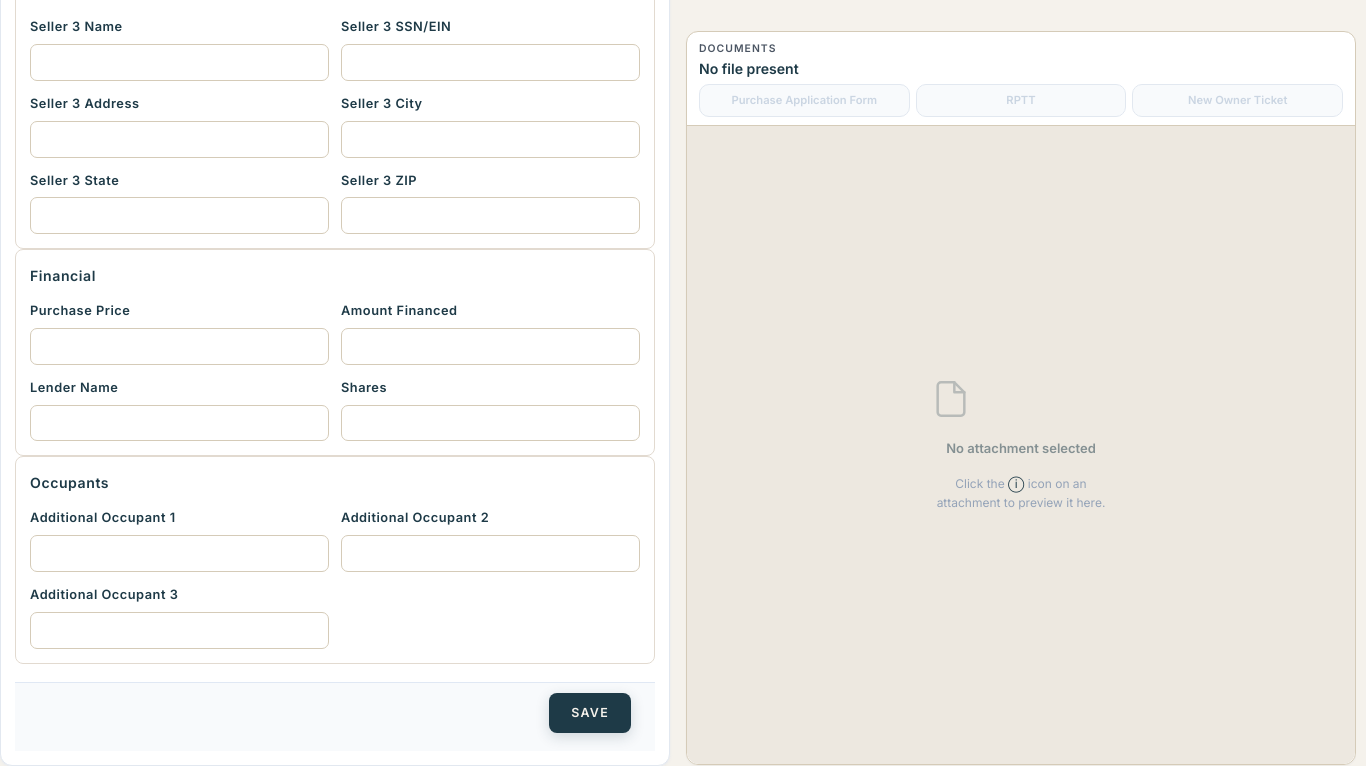
Scenario: NewOwnerTicketTab — save flow against an existing ticket › loads the existing record and saves, defaulting blank buyer 2 fields to N/A
(page scrolled)
Click the button "Save". click: x=590, y=713
box: left=549, top=693, right=631, bottom=733
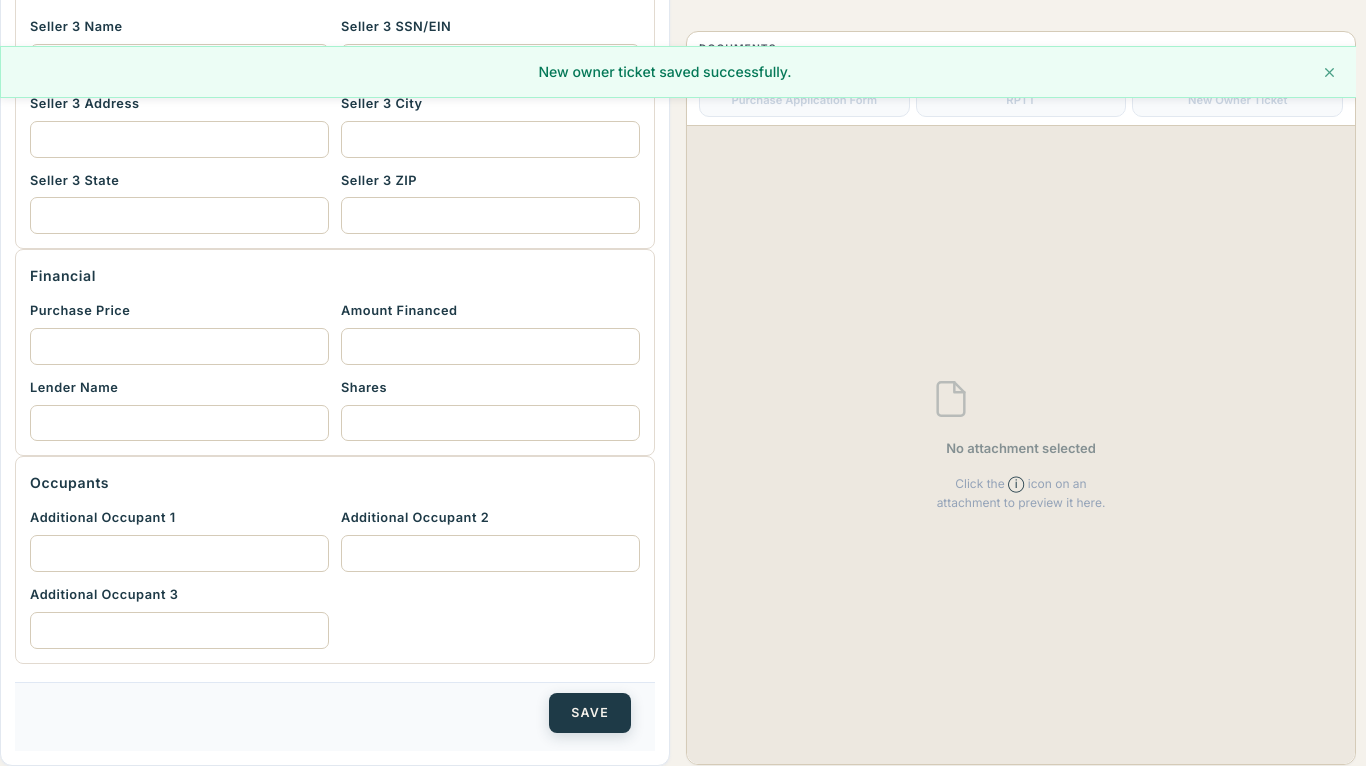
Expected: the text "New owner ticket saved successfully." is shown, left=538, top=63, right=792, bottom=80
